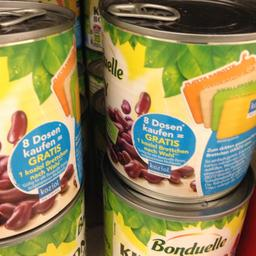beans: (98, 0, 255, 202), (0, 12, 80, 236)
